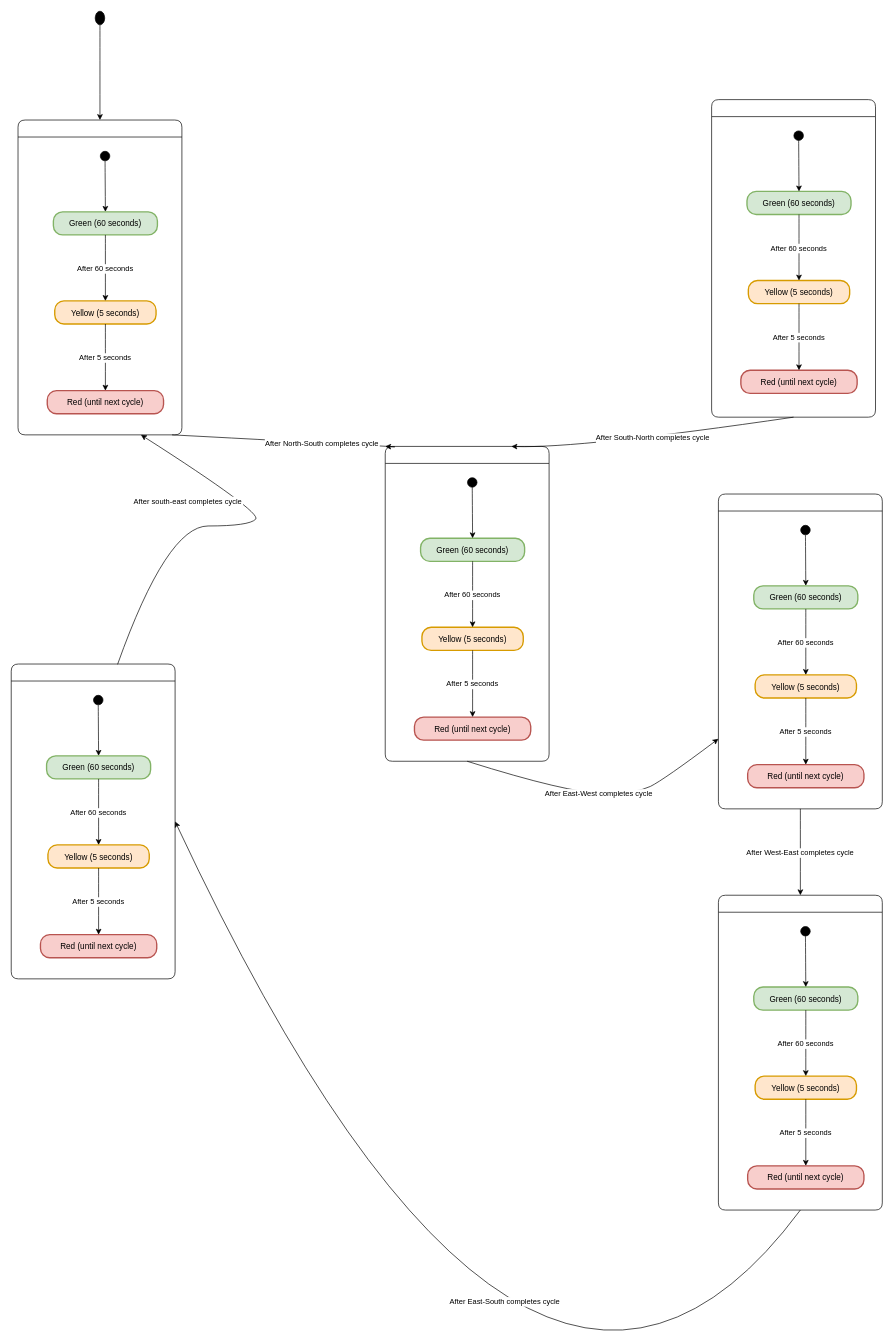
This 894x1342 diagram has some shape labels left out. The box of each missing label's shape, as (x1, y1, x2, y2) in pixels:
EastSouth: (718, 895, 882, 1210)
EastWest: (385, 446, 549, 761)
NorthSouth: (17, 119, 182, 435)
SouthEast: (11, 663, 175, 979)
SouthNorth: (711, 99, 876, 417)
WestEast: (718, 493, 882, 809)
